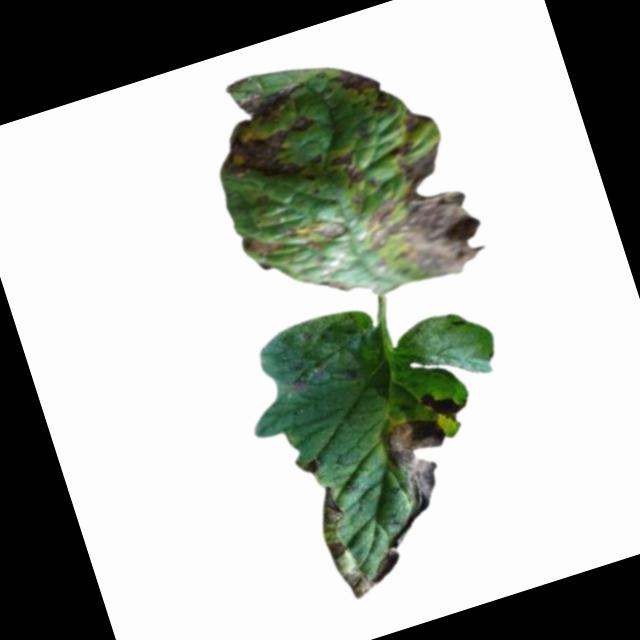Early_blight: (344, 138, 491, 298), (203, 78, 331, 207), (366, 411, 474, 548), (309, 471, 408, 604), (330, 56, 396, 123), (283, 211, 348, 262), (418, 380, 467, 429), (236, 224, 286, 265), (282, 354, 330, 392), (396, 105, 434, 135), (327, 147, 356, 169)
